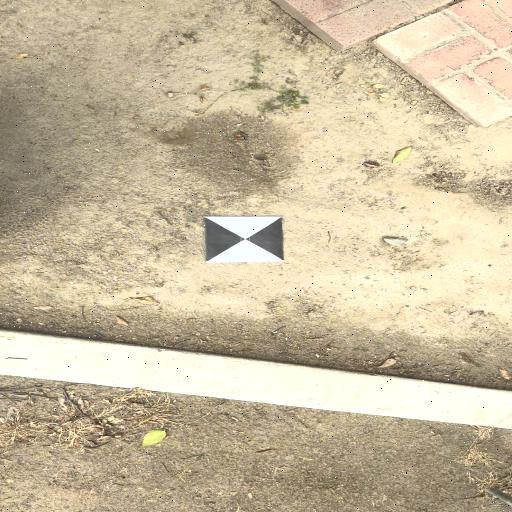target: (204, 216, 285, 261)
